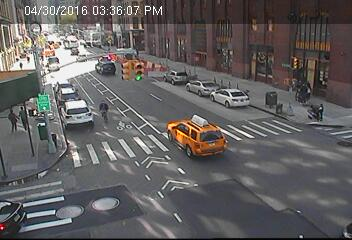neg: (136, 151, 170, 196), (256, 80, 289, 125), (43, 132, 71, 170), (111, 48, 139, 85), (42, 54, 64, 84), (307, 98, 328, 127), (176, 72, 197, 100), (80, 187, 101, 215), (189, 112, 209, 138), (91, 97, 111, 122), (211, 32, 229, 56)
pos: (5, 108, 22, 132), (17, 105, 34, 128)
